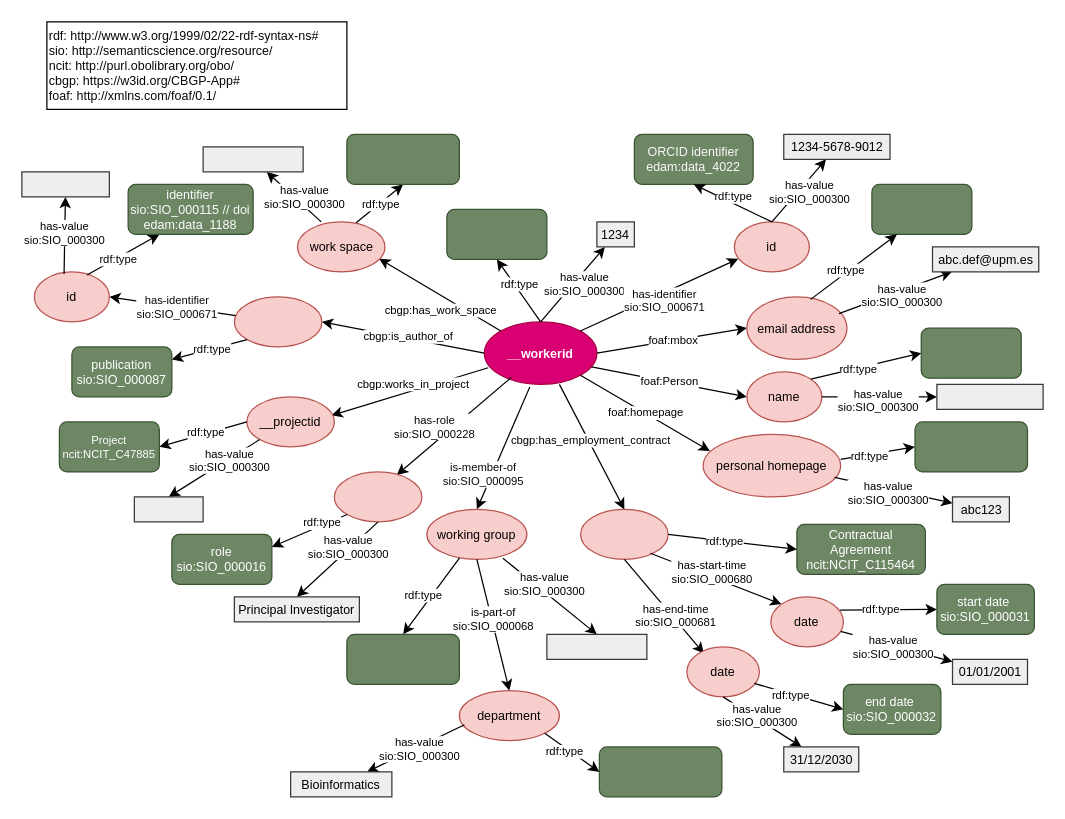
Image size: 1065x819. Some labels were removed from this diagram. Here are the shapes that lost their labels. From the top down, the box of each, then its label:
(202, 146, 303, 172): X floor, Y office
(346, 133, 459, 184): Worksite ncit: NCIT_C17556
(21, 171, 109, 197): 10.12345/abc
(871, 183, 972, 234): email address sio: SIO_001323
(446, 208, 547, 259): identifier sio:SIO_000115
(233, 296, 322, 347): publication
(920, 327, 1021, 378): personal name sio: SIO_000183
(936, 383, 1043, 409): Pepe Pérez Pérez
(914, 421, 1028, 472): Home Page ncit: NCIT_C19467
(133, 496, 203, 522): 123abc
(333, 471, 422, 522): role
(579, 508, 668, 559): contract
(346, 633, 459, 684): Working Group ncit: NCIT_C61419
(546, 633, 647, 659): piname_name
(598, 746, 722, 797): Department ncit: NCIT_C42671
